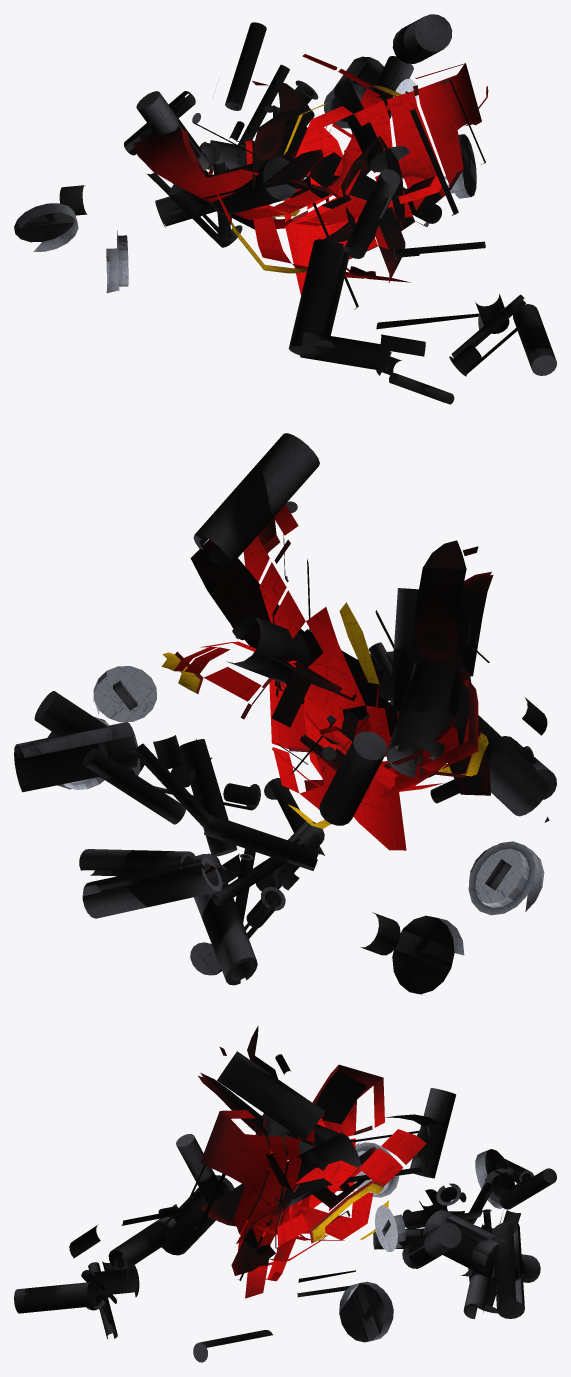
File: MonsterA2_die17.obj
The picture shows the model from 3 angles, top to bottom: view 1: azimuth 30°, elevation 25°; view 2: azimuth 150°, elevation 25°; view 3: azimuth 270°, elevation 25°; orthographic projection. The views are drawn at different scales.
Parts seen in each view (by area): view 1: Box001; view 2: Box001; view 3: Box001.
Boxes of the visible parts, x1,y1,x2,y2 form: Box001: [14, 14, 556, 404]; Box001: [14, 433, 556, 996]; Box001: [14, 1026, 556, 1362].
Size of the model in its own units: 388 by 308 by 490.
Materials: 1 (1 with a texture image).
